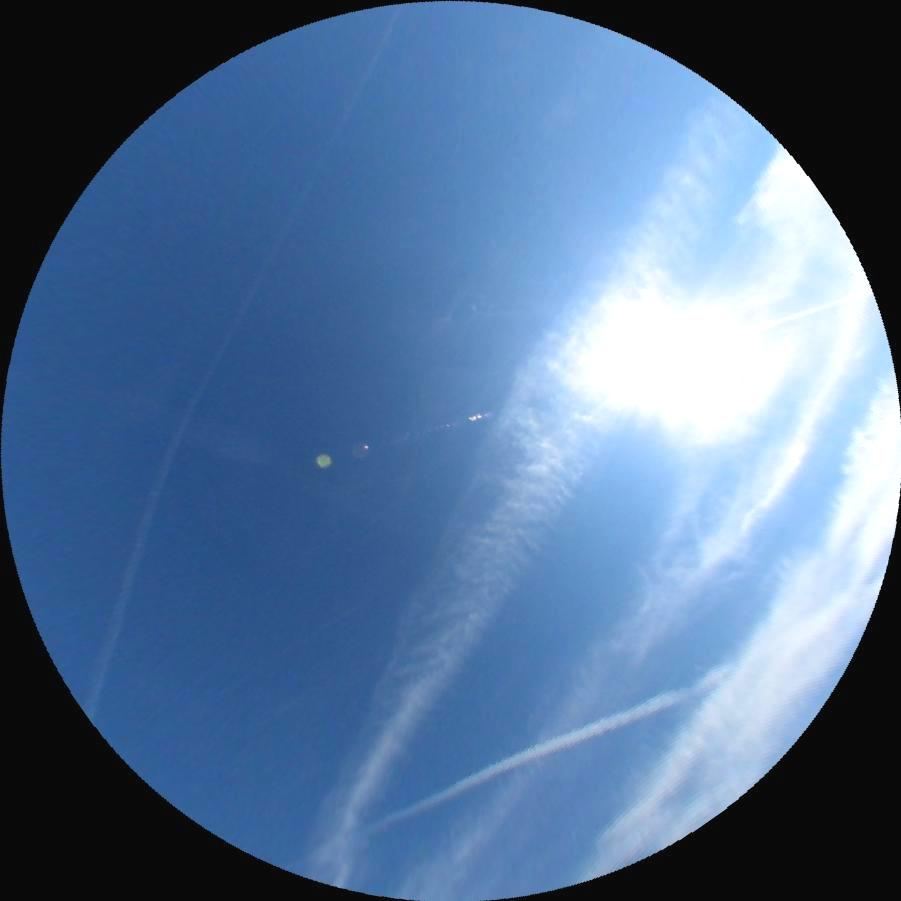contrail old: (55, 0, 406, 720), (341, 660, 737, 847)
contrail veryold: (247, 66, 780, 899)
parasite: (709, 283, 871, 345)
sun: (615, 311, 723, 401)
